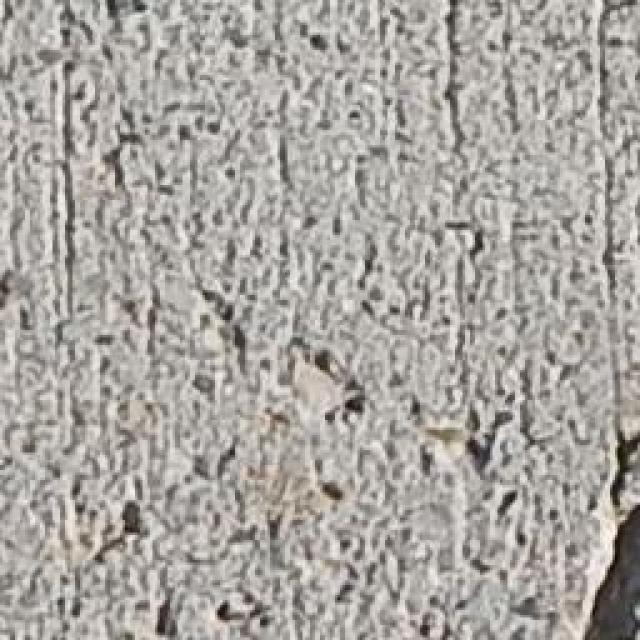concrete-crack: (564, 405, 640, 640)
